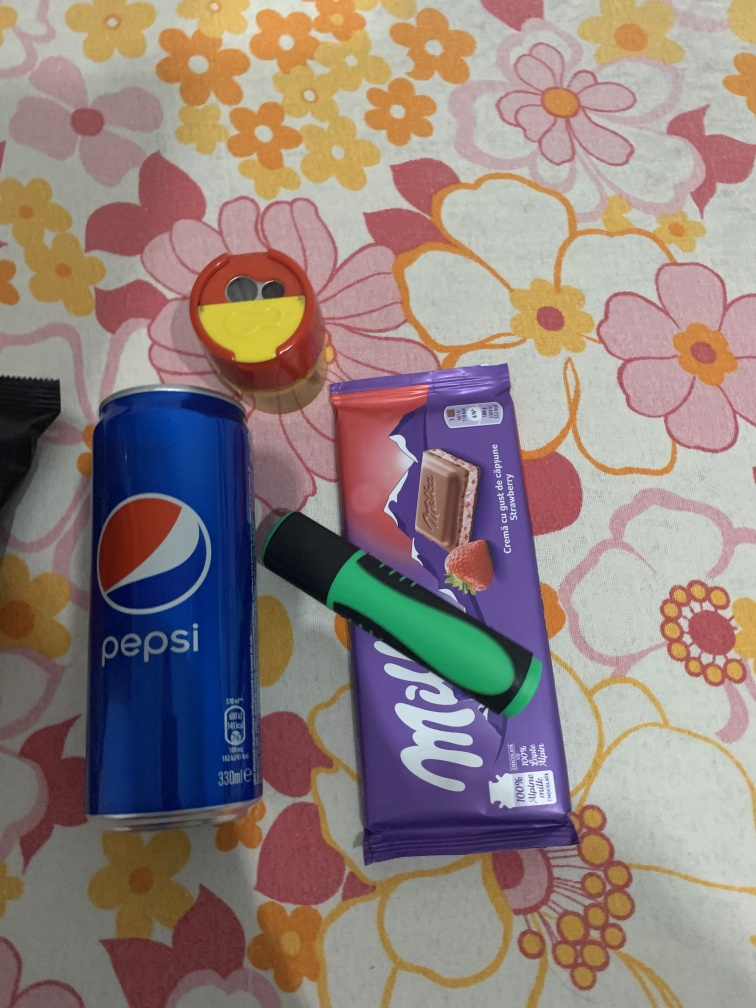milka: (320, 373, 584, 859)
pepsi: (82, 382, 274, 843)
